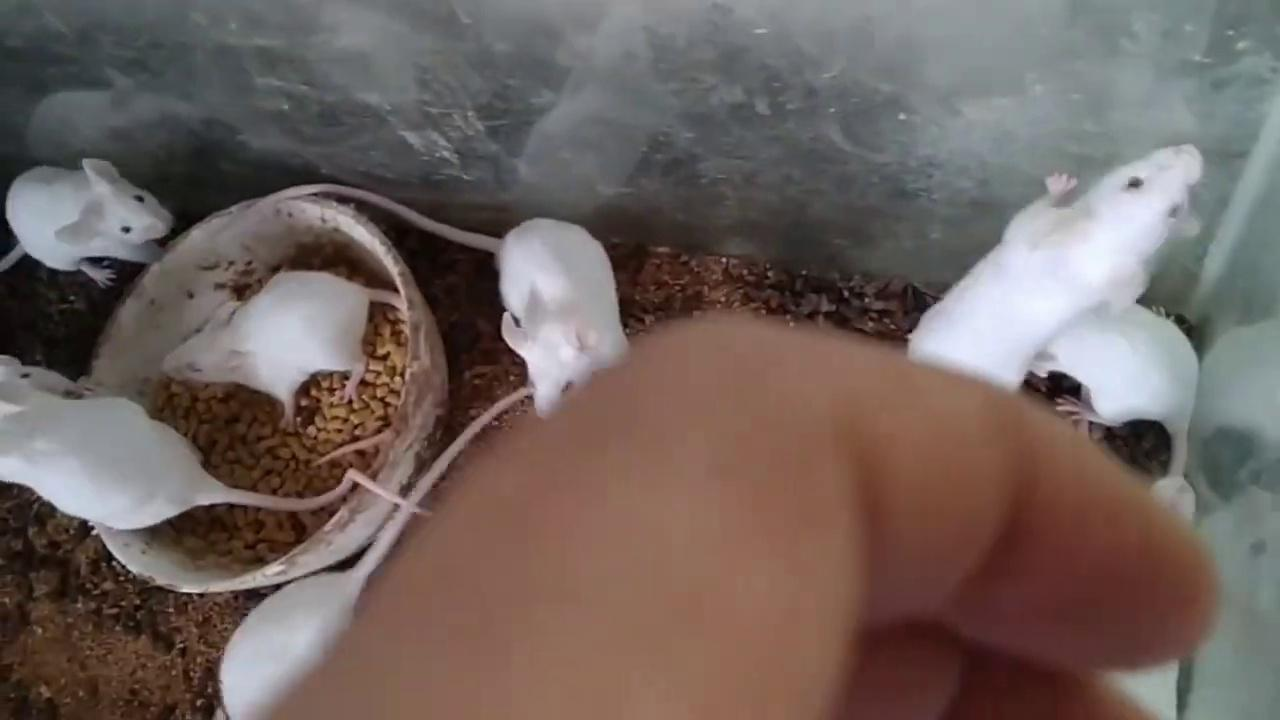rat: (220, 384, 532, 720), (220, 184, 630, 418), (907, 142, 1204, 393), (0, 379, 434, 532), (166, 271, 406, 432), (1037, 304, 1198, 474), (0, 158, 176, 290)
